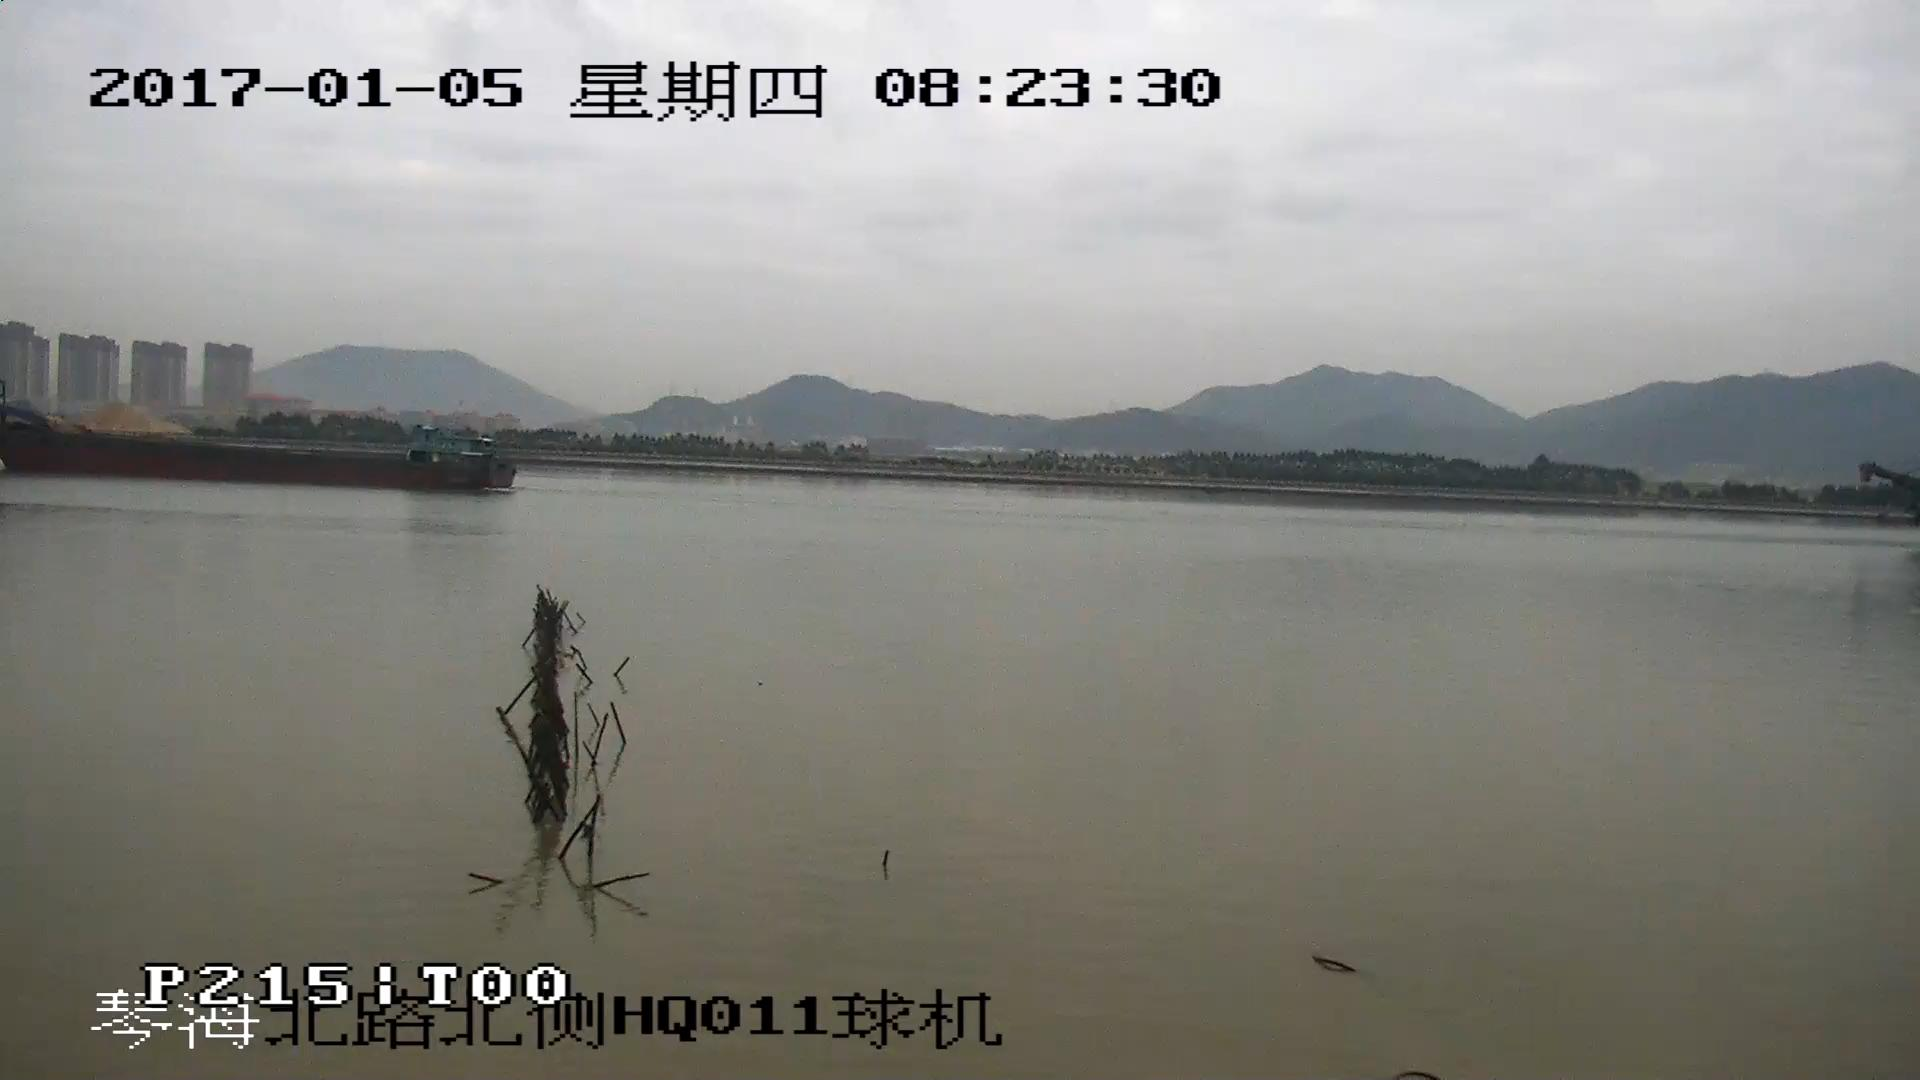bulk cargo carrier: (1, 423, 518, 491)
